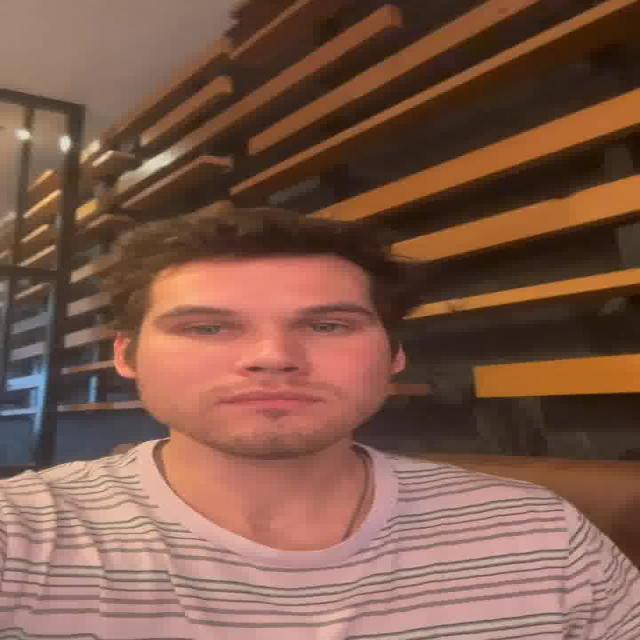earlobe: (118, 364, 140, 380), (391, 363, 406, 375)
eye: (180, 321, 234, 336), (302, 321, 352, 335)
nose: (240, 369, 304, 391)
wholeear: (114, 329, 140, 380), (391, 343, 410, 375)
